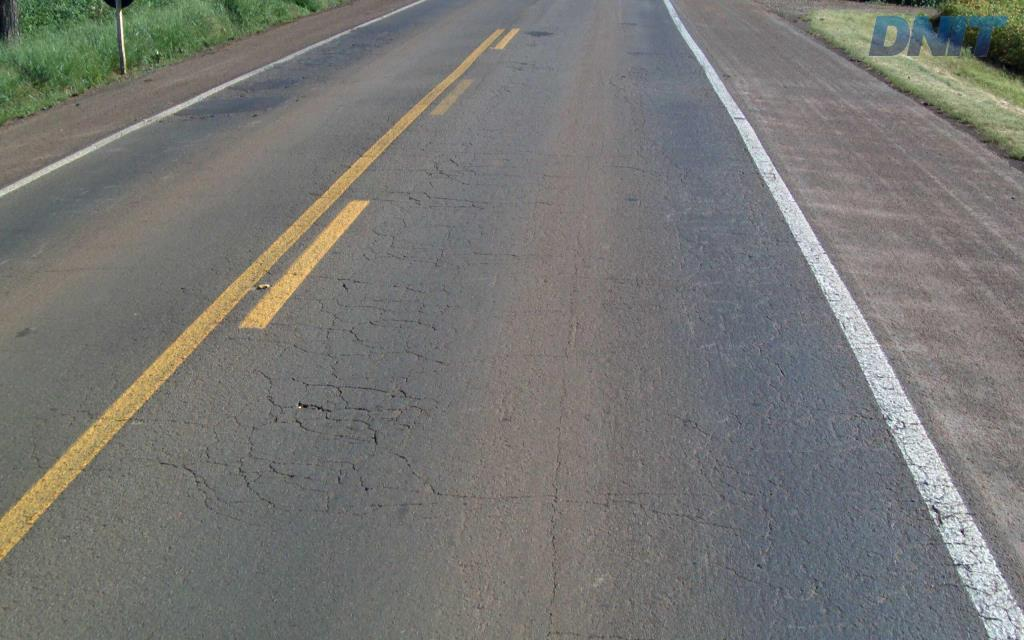crack: (302, 381, 388, 451)
